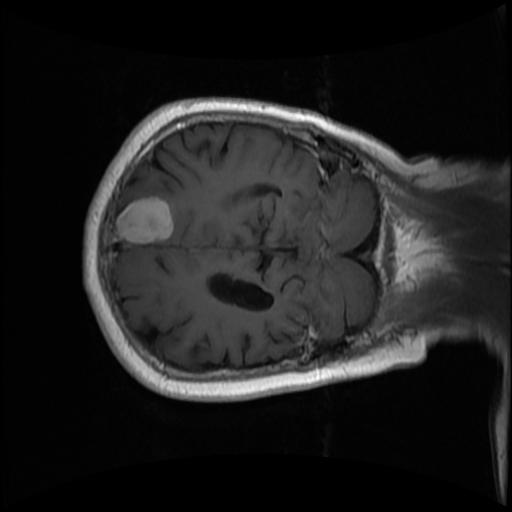meningioma: (115, 197, 174, 245)
